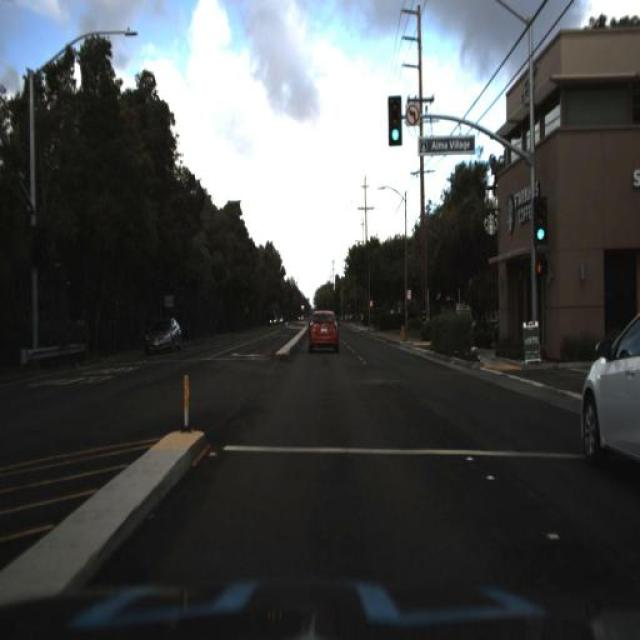car: (579, 314, 640, 482), (302, 302, 342, 353), (142, 310, 182, 352)
trafficLight-GreenLeft: (531, 192, 550, 246), (385, 92, 401, 148), (388, 92, 402, 143), (533, 193, 547, 244)
